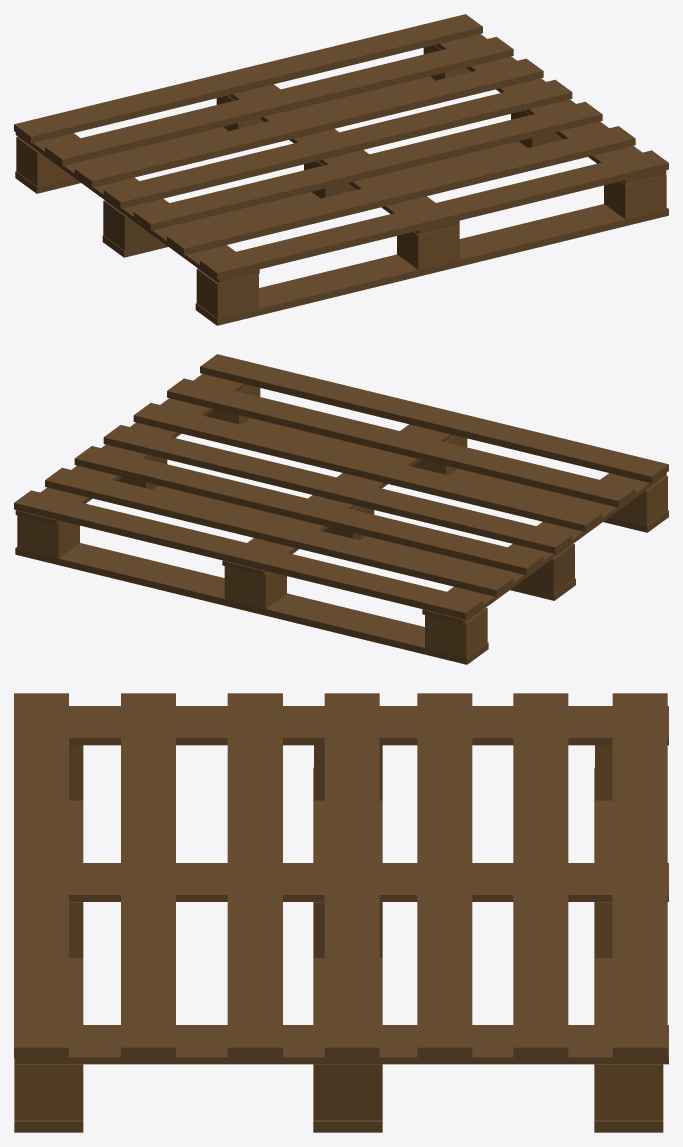
Rendered from Palette.fbx.
3 renders of one model, top to bottom at view 1: azimuth 30°, elevation 25°; view 2: azimuth 150°, elevation 25°; view 3: azimuth 270°, elevation 25°, orthographic. The views are drawn at different scales.
Visible parts, largest first — view 1: pCube36; view 2: pCube36; view 3: pCube36.
Boxes of the visible parts, x1,y1,x2,y2 form: pCube36: (14, 14, 668, 325); pCube36: (14, 354, 668, 664); pCube36: (14, 693, 668, 1132).
Size of the model in its own units: 259 by 28.99 by 203.
